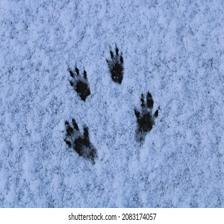squirrel: (57, 118, 104, 166), (130, 90, 167, 147), (65, 64, 95, 102), (103, 43, 126, 87)
